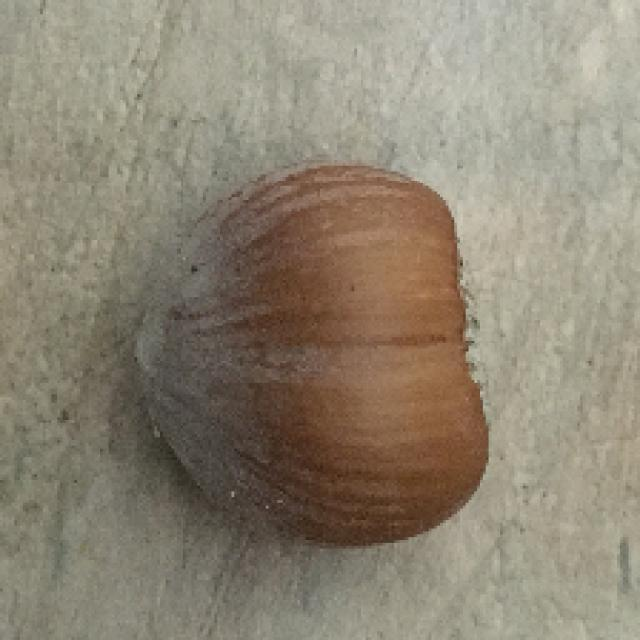qualityHazelnut: (138, 162, 486, 550)
